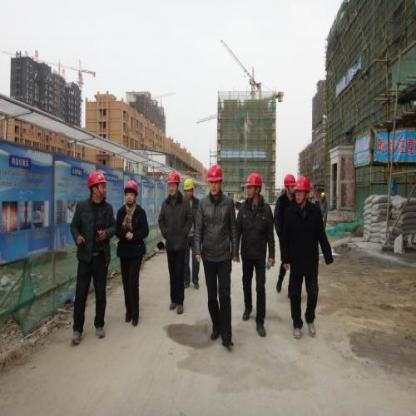helmet: (201, 163, 224, 199), (86, 168, 107, 200), (241, 172, 264, 200), (121, 181, 143, 205), (166, 170, 182, 197), (294, 176, 310, 201), (280, 173, 297, 195), (180, 178, 194, 198)
